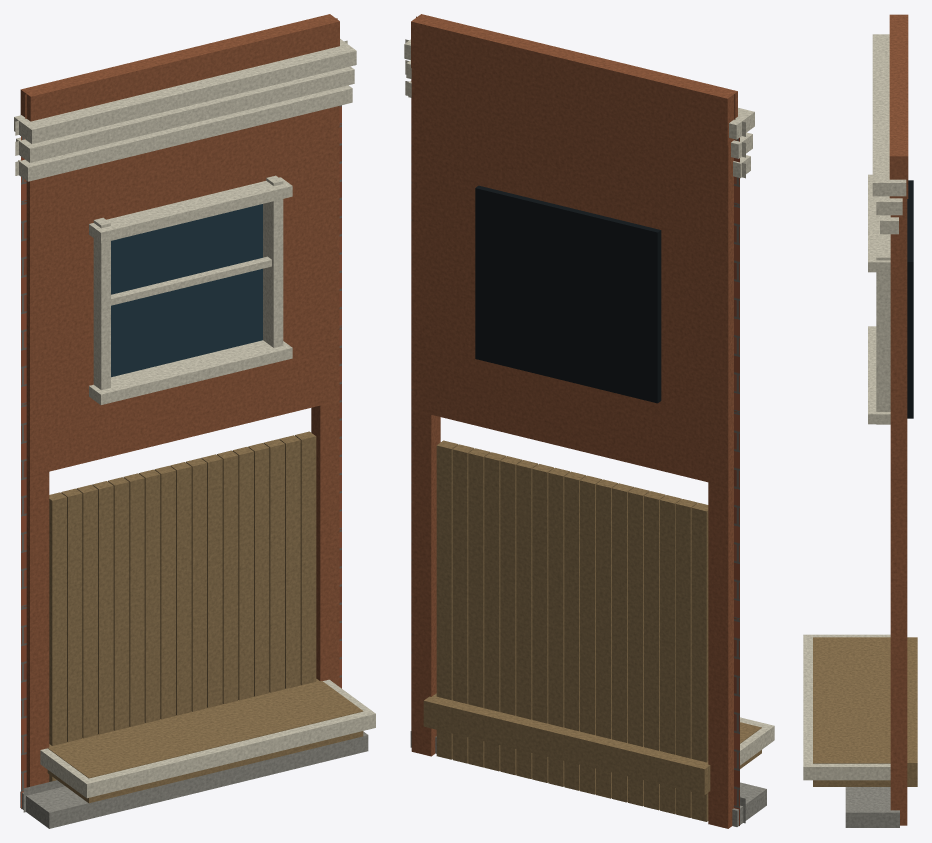
File: WHSE17_lod2.glb
The picture shows the model from 3 angles, left to right: view 1: azimuth 30°, elevation 25°; view 2: azimuth 150°, elevation 25°; view 3: azimuth 270°, elevation 25°; orthographic projection. The views are drawn at different scales.
Visible parts, largest first — view 1: WHSE17_FRONT_LOD2; view 2: WHSE17_FRONT_LOD2; view 3: WHSE17_FRONT_LOD2.
Boxes of the visible parts, bbox=[...] form: WHSE17_FRONT_LOD2: bbox=[14, 14, 375, 828]; WHSE17_FRONT_LOD2: bbox=[404, 14, 774, 828]; WHSE17_FRONT_LOD2: bbox=[803, 14, 917, 827].
Size of the model in its own units: 3.44 by 7.05 by 1.1.
8 materials, 6 textured.
